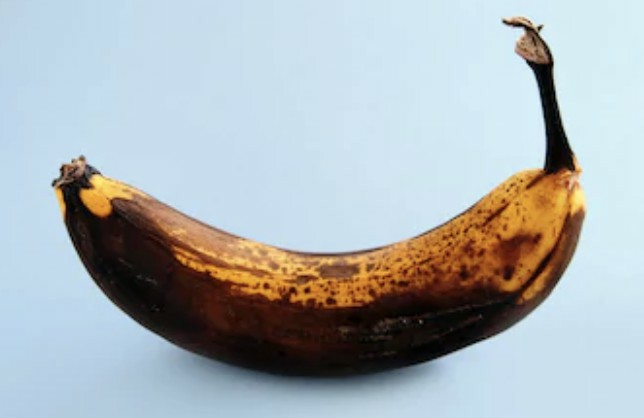rotten_banana: (54, 67, 589, 376)
